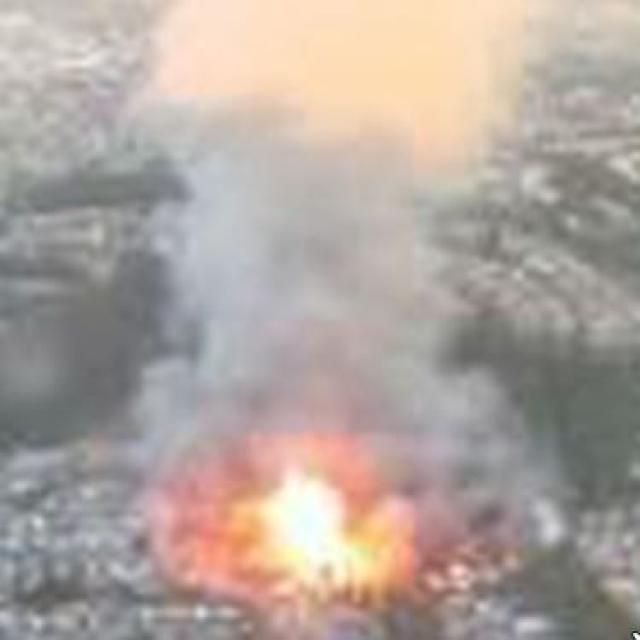Fire: (248, 471, 407, 600)
Smoke: (181, 2, 531, 568)
